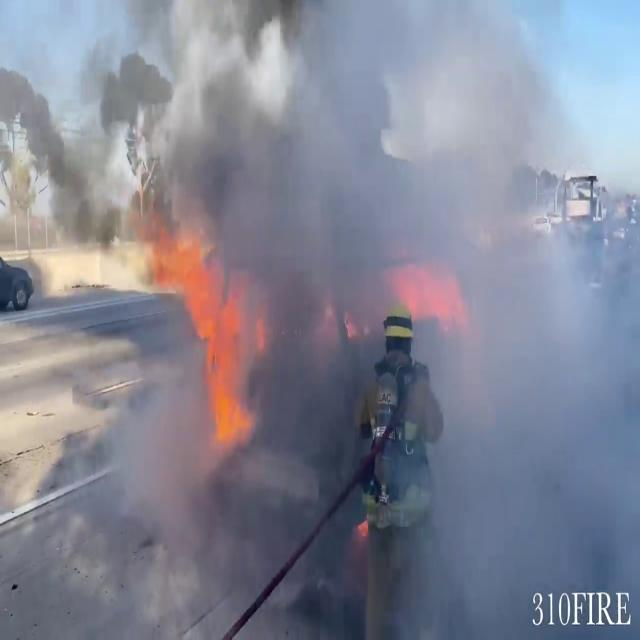Fire: (164, 215, 256, 454)
Smoke: (119, 0, 639, 618)
